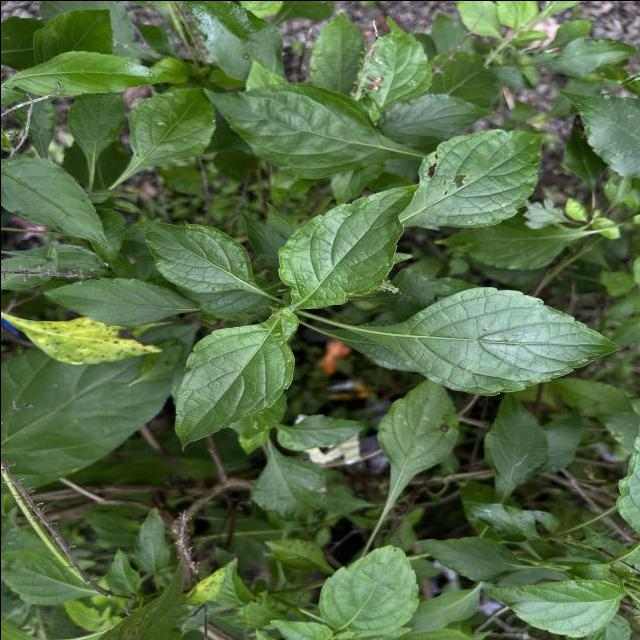Ocimum gratissimum: (328, 283, 622, 397), (198, 78, 414, 182), (275, 182, 422, 310), (172, 310, 296, 455), (398, 125, 550, 228), (374, 378, 462, 532), (138, 217, 274, 299), (0, 154, 113, 252), (316, 540, 420, 636), (0, 46, 178, 100), (482, 577, 628, 640), (38, 274, 198, 328)
